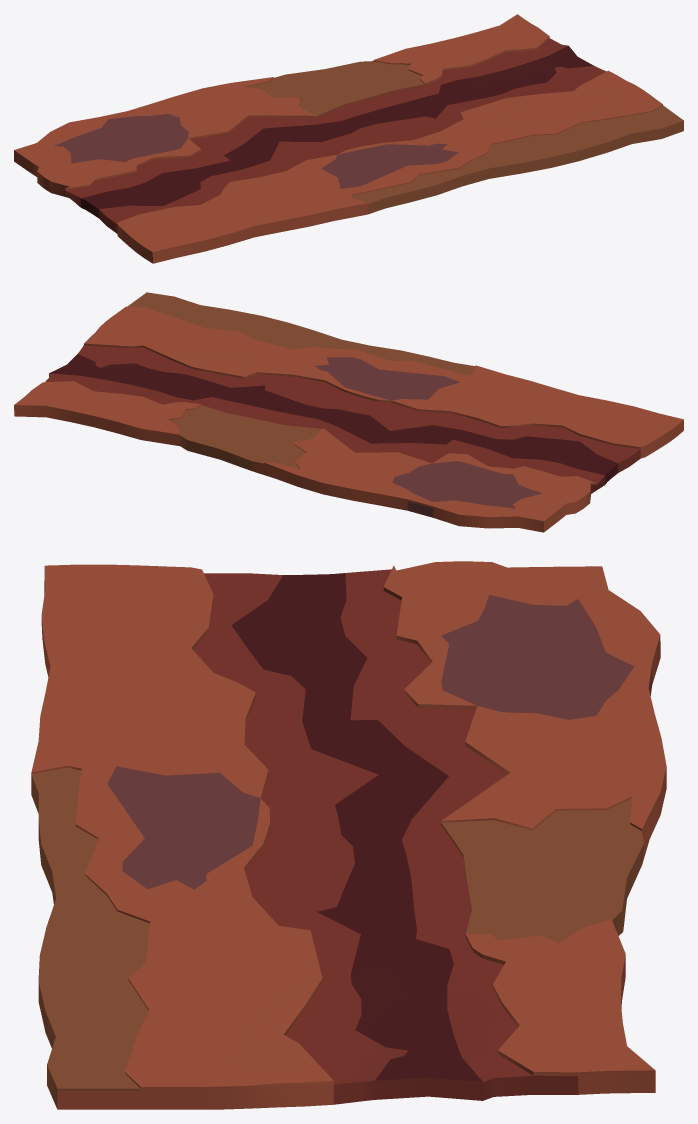
The model's file is Desert.fbx.
3 views of the same model, one above another, from view 1: azimuth 30°, elevation 25°; view 2: azimuth 150°, elevation 25°; view 3: azimuth 270°, elevation 25° (orthographic). The views are drawn at different scales.
Parts seen in each view (by area): view 1: pCube32; view 2: pCube32; view 3: pCube32.
Boxes of the visible parts, <box> form: pCube32: <box>14,14,683,263</box>; pCube32: <box>14,292,683,532</box>; pCube32: <box>31,561,666,1109</box>.
Bounding box in the file's own units: 59.16 × 1.34 × 30.2.
